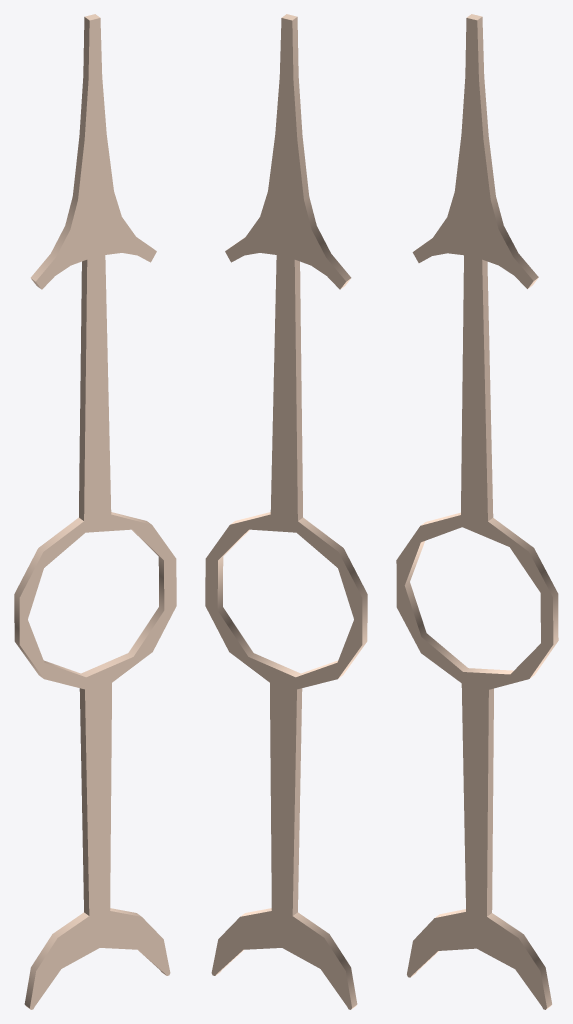
Rendered from Aiguille Jours.obj.
The picture shows the model from 3 angles, left to right: view 1: azimuth 30°, elevation 25°; view 2: azimuth 150°, elevation 25°; view 3: azimuth 330°, elevation 25°; orthographic projection.
Visible parts, largest first — view 1: Face_2, Face_12, Face_10, Face_23, Face_16, Face_11, Face_9, Face_15; view 2: Face_1, Face_12, Face_10, Face_23, Face_16, Face_11, Face_9, Face_15; view 3: Face_2, Face_22, Face_4, Face_23, Face_18, Face_3, Face_5, Face_19.
Boxes of the visible parts, x1,y1,x2,y2 form: Face_2: (19,18,176,1009); Face_12: (79,260,87,520); Face_10: (79,688,89,915); Face_23: (43,529,164,677); Face_16: (73,17,89,199); Face_11: (14,517,83,678); Face_9: (24,912,88,1007); Face_15: (30,196,77,281); Face_1: (205,18,362,1009); Face_12: (294,260,302,520); Face_10: (292,688,302,915); Face_23: (217,529,338,677); Face_16: (292,17,308,199); Face_11: (298,517,367,678); Face_9: (293,912,357,1007); Face_15: (304,196,351,281); Face_2: (396,18,553,1009); Face_22: (482,259,493,521); Face_4: (487,688,493,916); Face_23: (404,541,513,674); Face_18: (477,17,495,199); Face_3: (488,518,558,678); Face_5: (487,913,551,1007); Face_19: (491,196,538,280).
Bounding box in the file's own units: 0.0173 × 0.1028 × 0.001.
